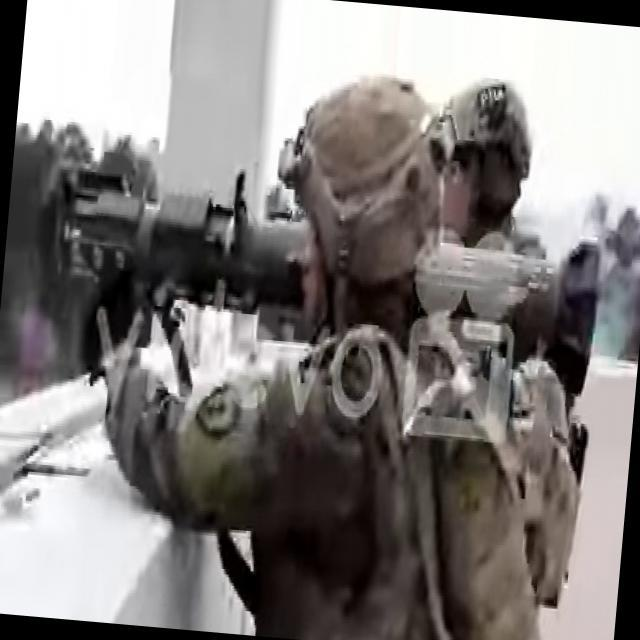rocket: (34, 177, 300, 300)
